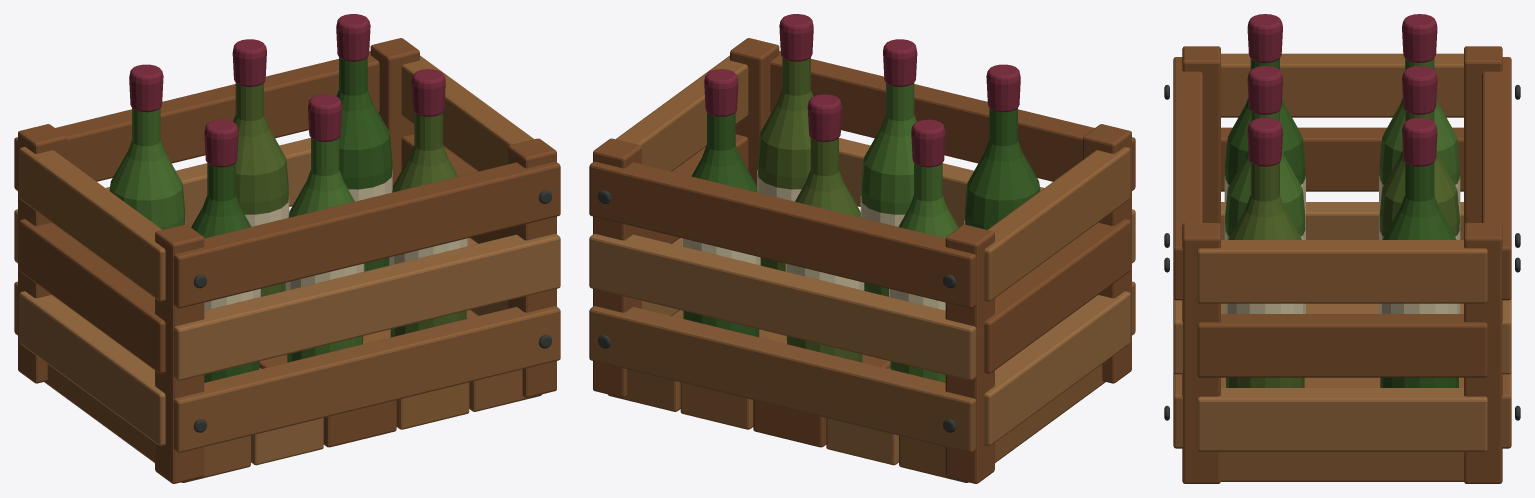
File: wooden_wine_crate.glb
The picture shows the model from 3 angles, left to right: view 1: azimuth 30°, elevation 25°; view 2: azimuth 150°, elevation 25°; view 3: azimuth 270°, elevation 25°; orthographic projection. The views are drawn at different scales.
Parts seen in each view (by area): view 1: Wooden_Wine_Crate; view 2: Wooden_Wine_Crate; view 3: Wooden_Wine_Crate.
Part boxes in pixels (x1,y1,x2,y2): Wooden_Wine_Crate: (14,14,560,483); Wooden_Wine_Crate: (589,14,1135,483); Wooden_Wine_Crate: (1164,14,1520,483).
Bounding box in the file's own units: 1.03 × 0.7799 × 0.784.
